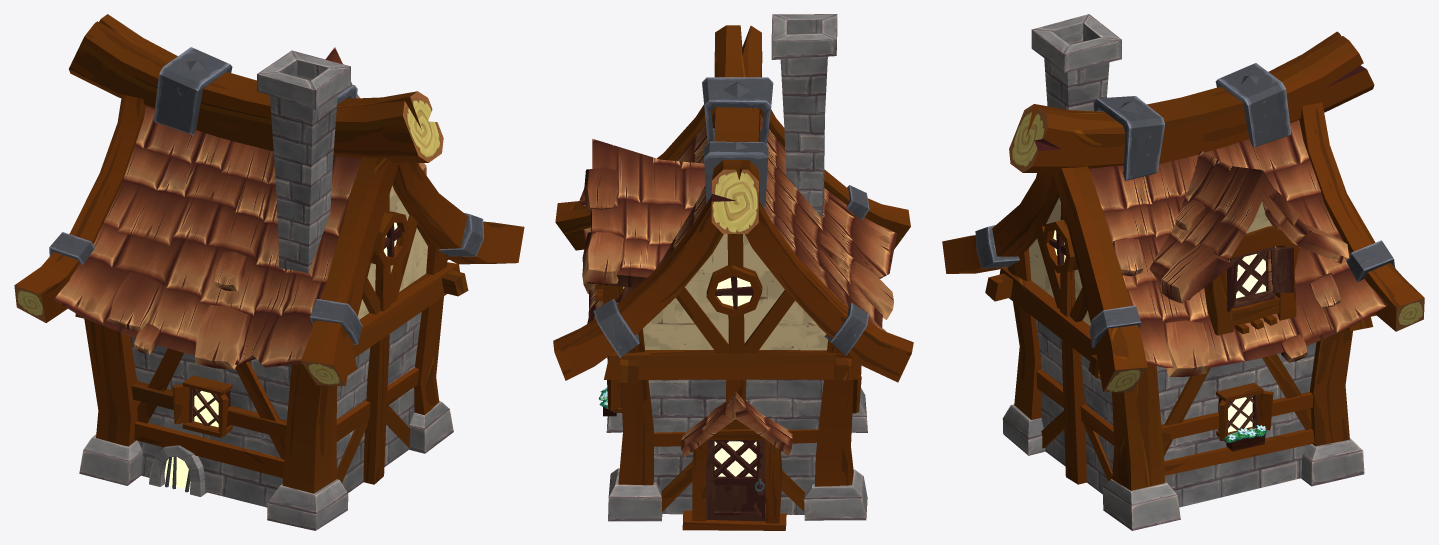
The model's file is Building2.fbx.
The picture shows the model from 3 angles, left to right: view 1: azimuth 30°, elevation 25°; view 2: azimuth 150°, elevation 25°; view 3: azimuth 270°, elevation 25°; orthographic projection. The views are drawn at different scales.
Visible parts, largest first — view 1: BP_BLD_house_2, SM_BLD_beam_big_v02_03, SM_BLD_chimney_v01_02, SM_BLD_window_v08_02_2, SM_BLD_window_v09_03, SM_BLD_window_v07_01_2; view 2: BP_BLD_house_2, SM_BLD_window_v04_01, SM_BLD_beam_big_v02_03, SM_BLD_door_v02_01, SM_BLD_chimney_v01_02, SM_BLD_window_v07_01_1, SM_BLD_window_v08_02_1; view 3: BP_BLD_house_2, SM_BLD_beam_big_v02_03, SM_BLD_window_v04_01, SM_BLD_chimney_v01_02, SM_BLD_window_v08_02_1, SM_BLD_window_v07_01_2, SM_PROP_PLANT_pot_v1_04.
Boxes of the visible parts, x1,y1,x2,y2 form: BP_BLD_house_2: [14, 94, 524, 530]; SM_BLD_beam_big_v02_03: [69, 14, 443, 162]; SM_BLD_chimney_v01_02: [257, 50, 350, 273]; SM_BLD_window_v08_02_2: [172, 375, 232, 437]; SM_BLD_window_v09_03: [149, 445, 206, 496]; SM_BLD_window_v07_01_2: [371, 211, 409, 266]; BP_BLD_house_2: [553, 105, 913, 521]; SM_BLD_window_v04_01: [579, 139, 705, 304]; SM_BLD_beam_big_v02_03: [702, 25, 773, 233]; SM_BLD_door_v02_01: [681, 392, 792, 530]; SM_BLD_chimney_v01_02: [771, 14, 837, 217]; SM_BLD_window_v07_01_1: [706, 265, 762, 317]; SM_BLD_window_v08_02_1: [607, 356, 621, 412]; BP_BLD_house_2: [942, 102, 1424, 530]; SM_BLD_beam_big_v02_03: [1009, 31, 1374, 180]; SM_BLD_window_v04_01: [1149, 150, 1349, 335]; SM_BLD_chimney_v01_02: [1031, 14, 1121, 111]; SM_BLD_window_v08_02_1: [1216, 382, 1273, 442]; SM_BLD_window_v07_01_2: [1042, 220, 1078, 273]; SM_PROP_PLANT_pot_v1_04: [1224, 425, 1266, 451].
Bounding box in the file's own units: 1060 × 990 × 1036.
